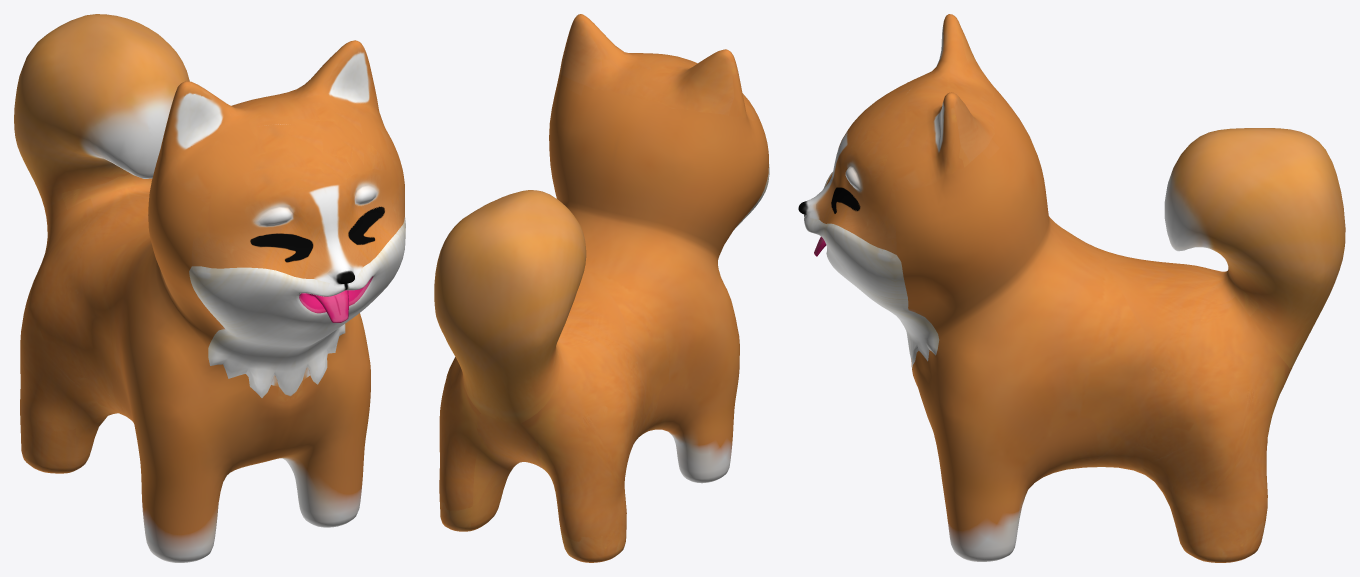
The model's file is Shiba Dog.glb.
3 views of the same model, side by side, from view 1: azimuth 30°, elevation 25°; view 2: azimuth 150°, elevation 25°; view 3: azimuth 270°, elevation 25° (orthographic). The views are drawn at different scales.
Parts seen in each view (by area): view 1: Shiba inu; view 2: Shiba inu; view 3: Shiba inu.
Boxes of the visible parts, x1,y1,x2,y2 form: Shiba inu: (14, 14, 405, 562); Shiba inu: (434, 14, 769, 562); Shiba inu: (798, 14, 1345, 562).
Size of the model in its own units: 0.2335 by 0.4602 by 0.4899.
1 material, 1 textured.
